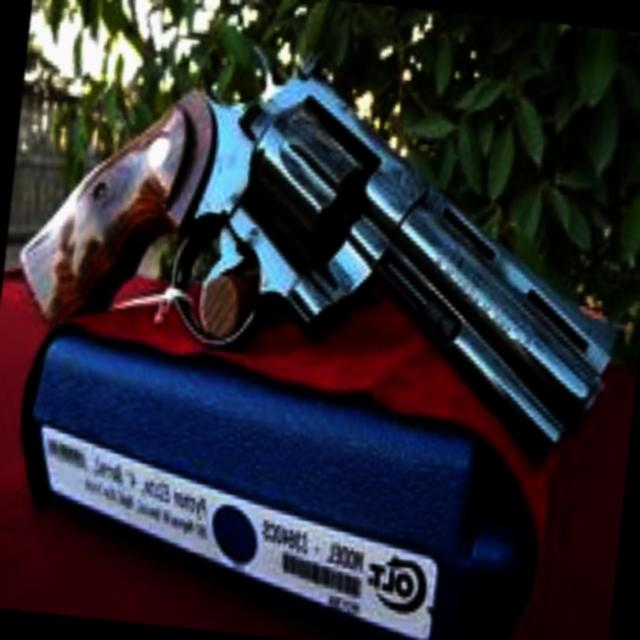revolver: (0, 0, 640, 468)
